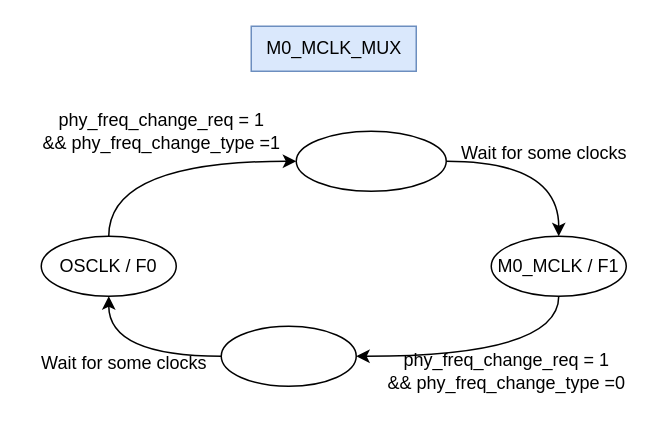
Some shapes in this 666 by 428 pixel diagram are drawn without their labels. Here are the shapes that lost their labels. From the top down, the centre of each, then its label:
At point 370,160: "OS2M0_STATE".
At point 288,355: "M02OS_STATE".
